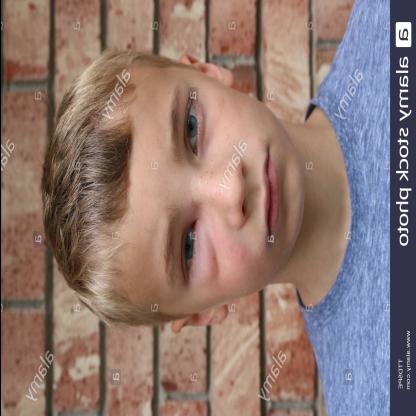Wasp: (189, 215, 219, 295)
